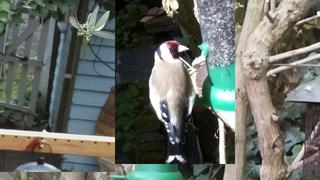goldfinch: (148, 40, 195, 164)
